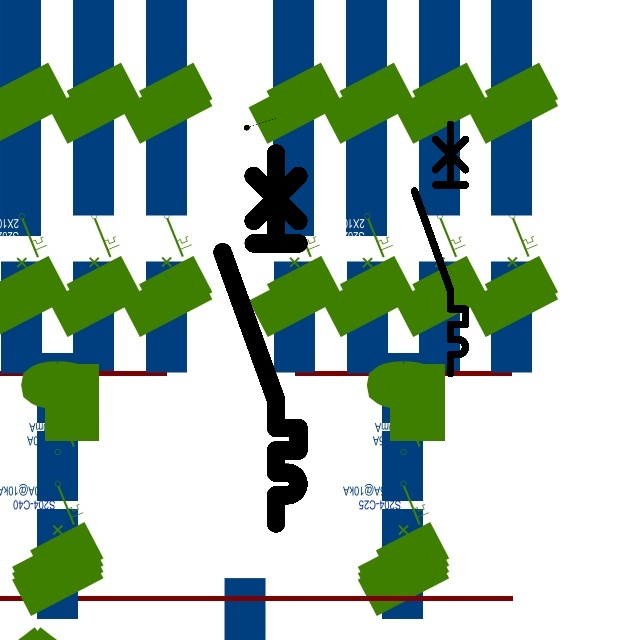interruptor_termomagnetico: (213, 144, 308, 533), (408, 118, 472, 380)
